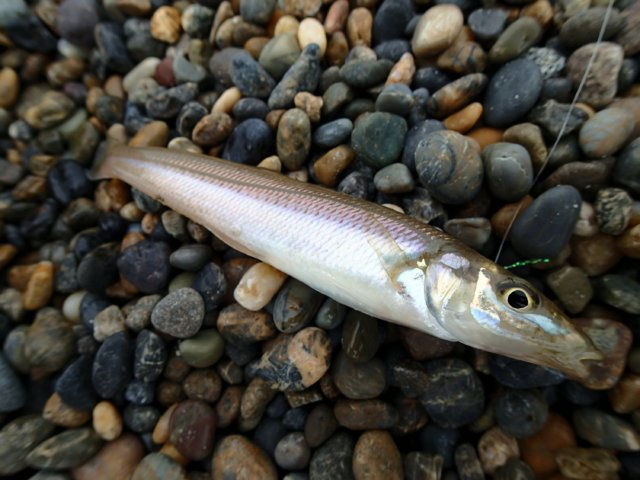kiss: (90, 124, 612, 395)
